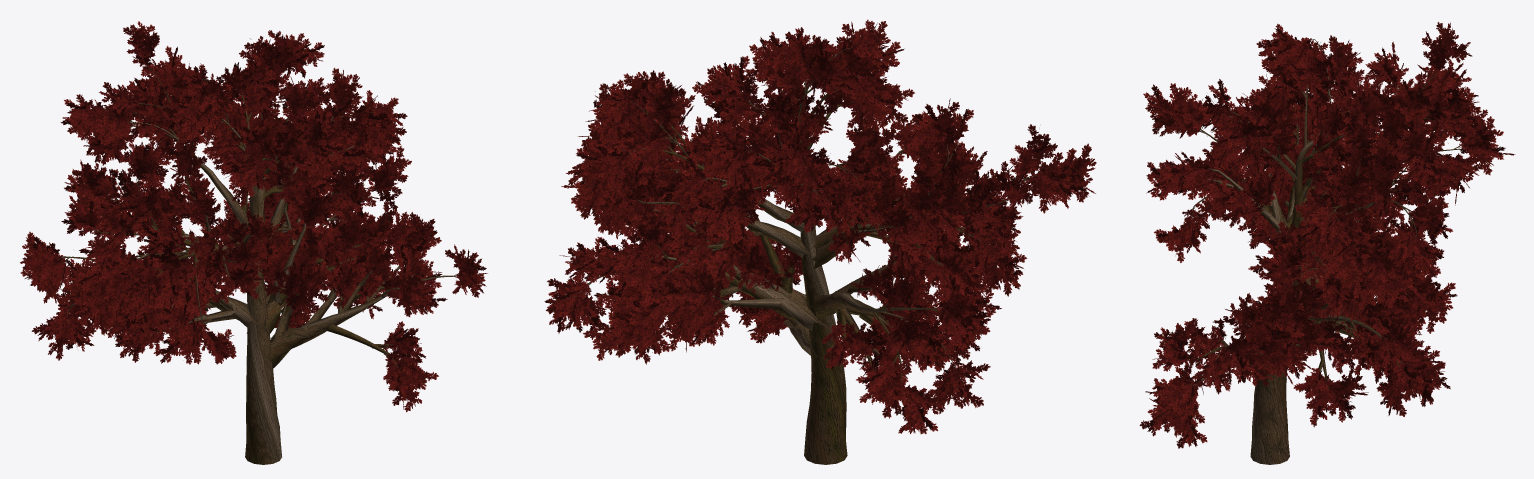
Rendered from prop_tree_oak_03.glb.
The picture shows the model from 3 angles, left to right: view 1: azimuth 30°, elevation 25°; view 2: azimuth 150°, elevation 25°; view 3: azimuth 270°, elevation 25°; orthographic projection. The views are drawn at different scales.
Parts seen in each view (by area): view 1: Tree; view 2: Tree; view 3: Tree.
Boxes of the visible parts, <box> form: Tree: <box>20,21,487,464</box>; Tree: <box>544,19,1096,464</box>; Tree: <box>1139,22,1515,464</box>.
Bounding box in the file's own units: 99.51 × 95.77 × 80.18.
Materials: 2 (2 with a texture image).
